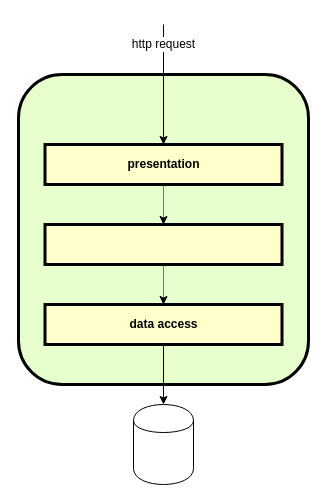
Image size: 327x502. Some labels were removed from this diagram. Here are the shapes that lost their labels. From the top down, the centre of each, then its label:
At (163,244): "business logic".
At (163,444): "DB".
